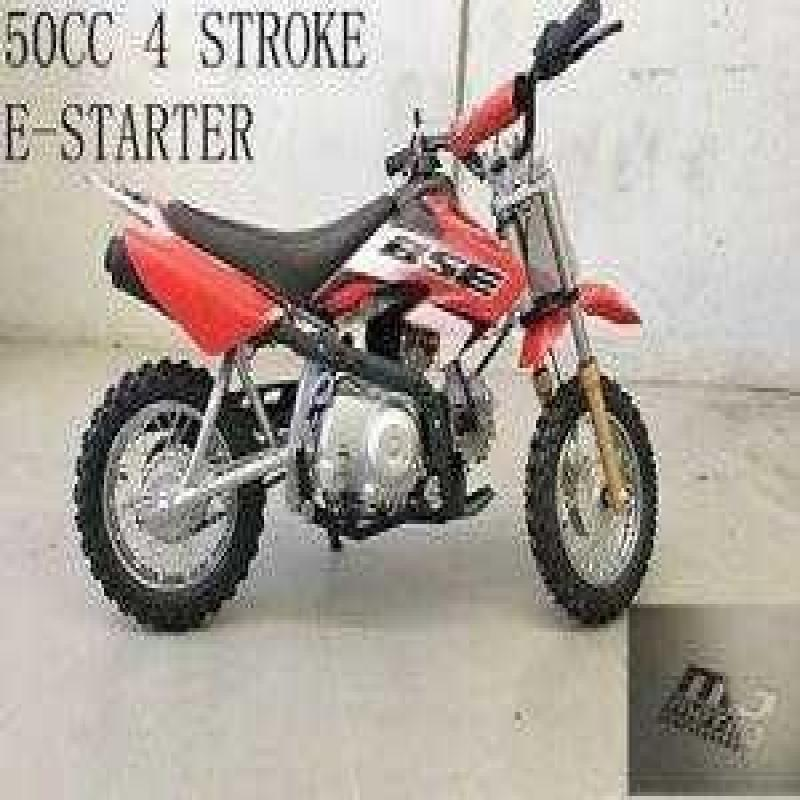bike: (43, 0, 672, 616)
